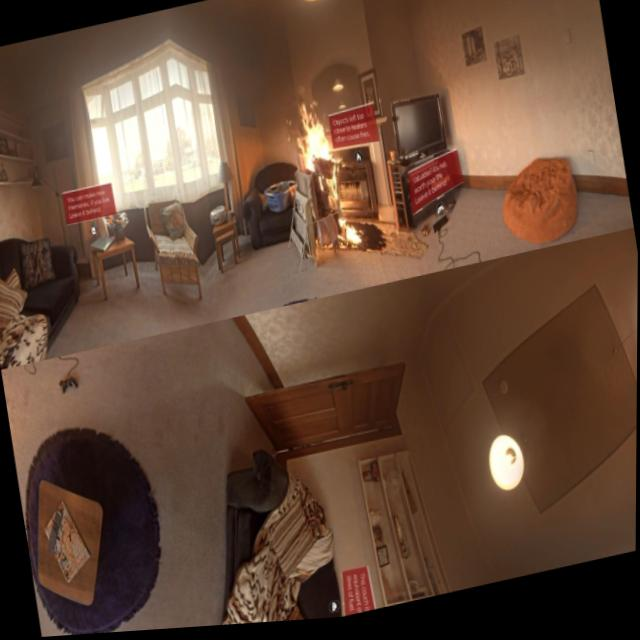fire: (278, 75, 362, 264)
